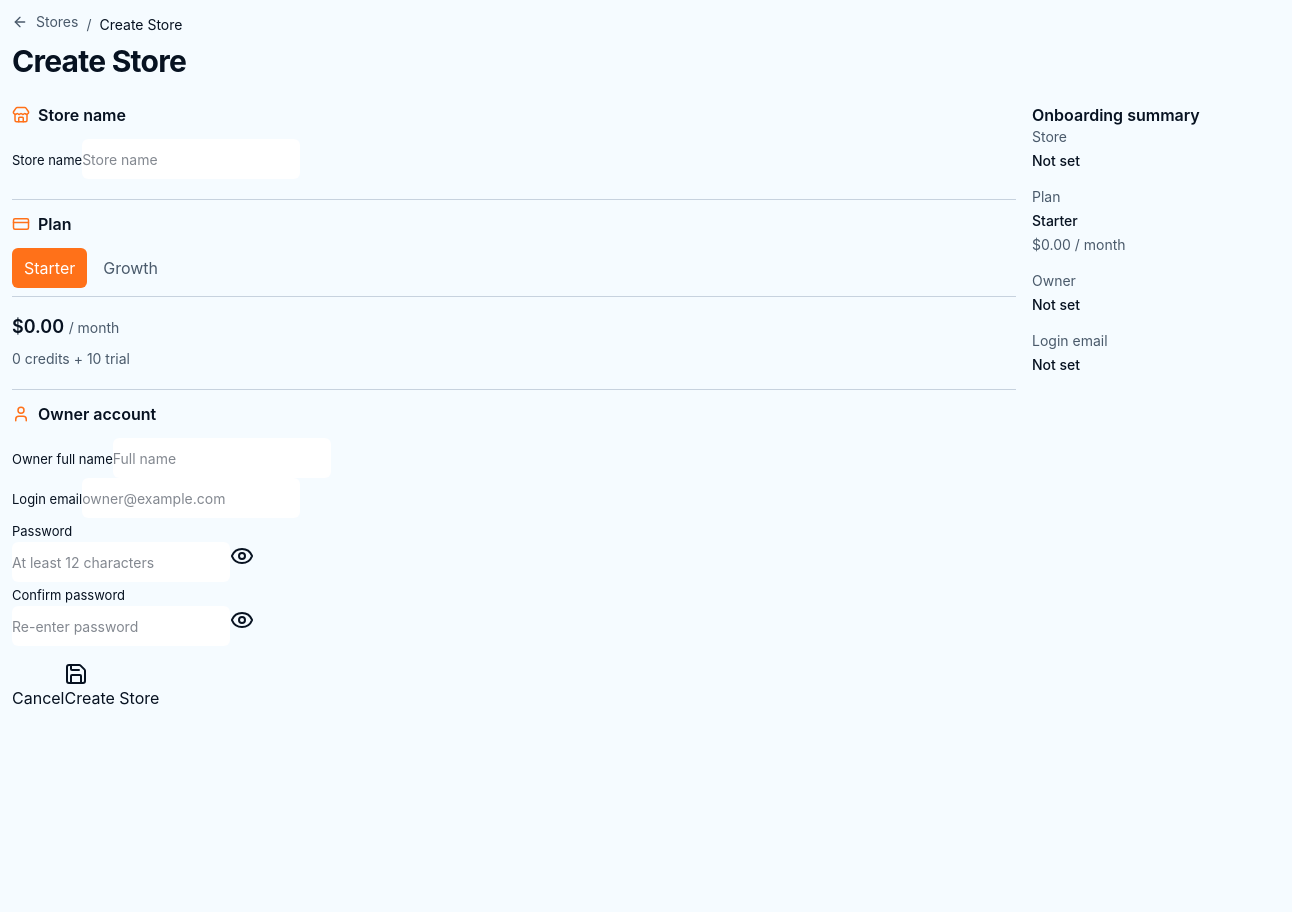
Create Store page › preserves form values and displays an existing-email error
This screenshot has width=1292, height=912.
Type "Test Store" into the field labelled "Store name" at (191, 159), box [82, 139, 300, 179]
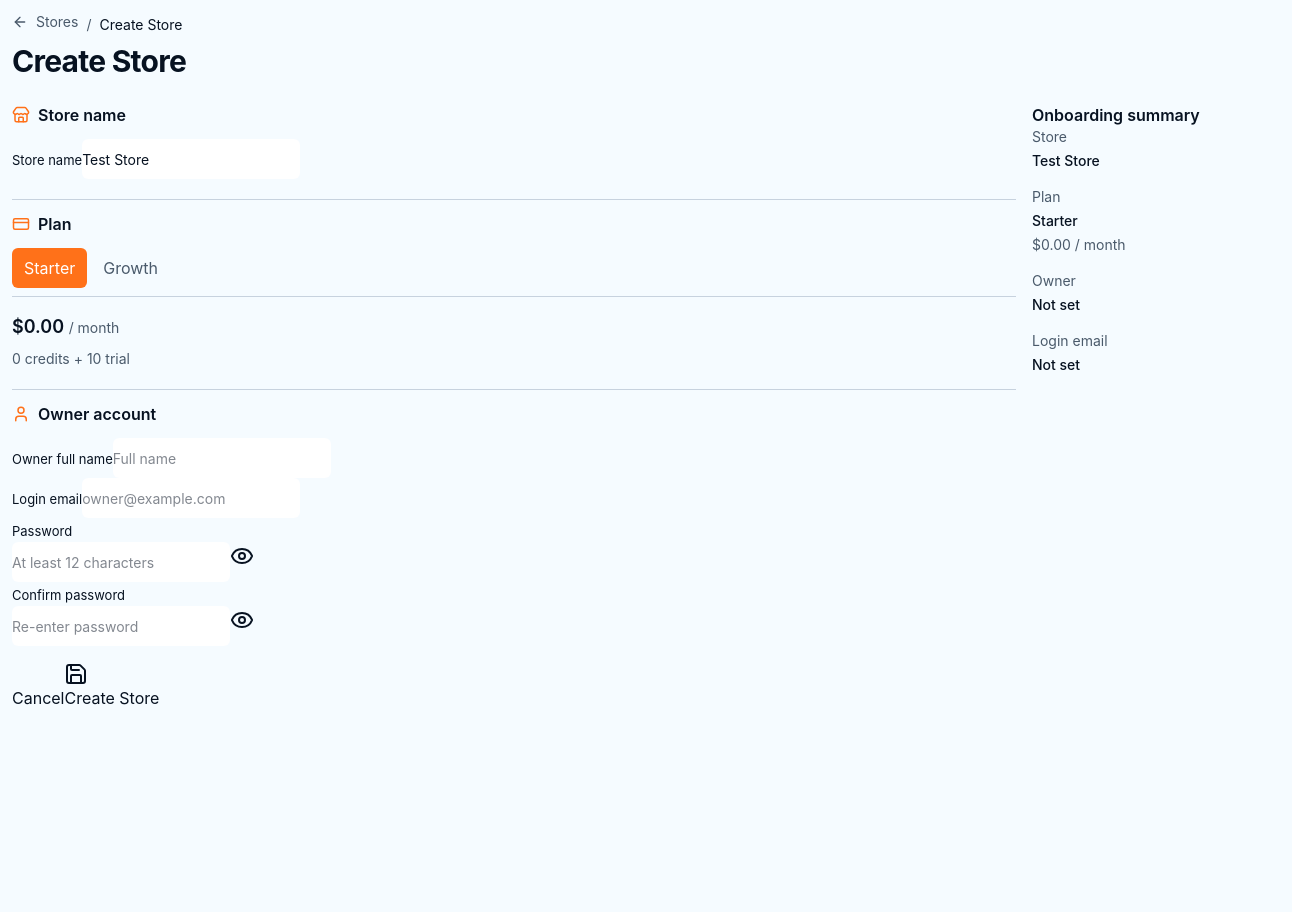
Type "Jane Owner" into the field labelled "Owner full name" at (222, 458), box [113, 438, 331, 478]
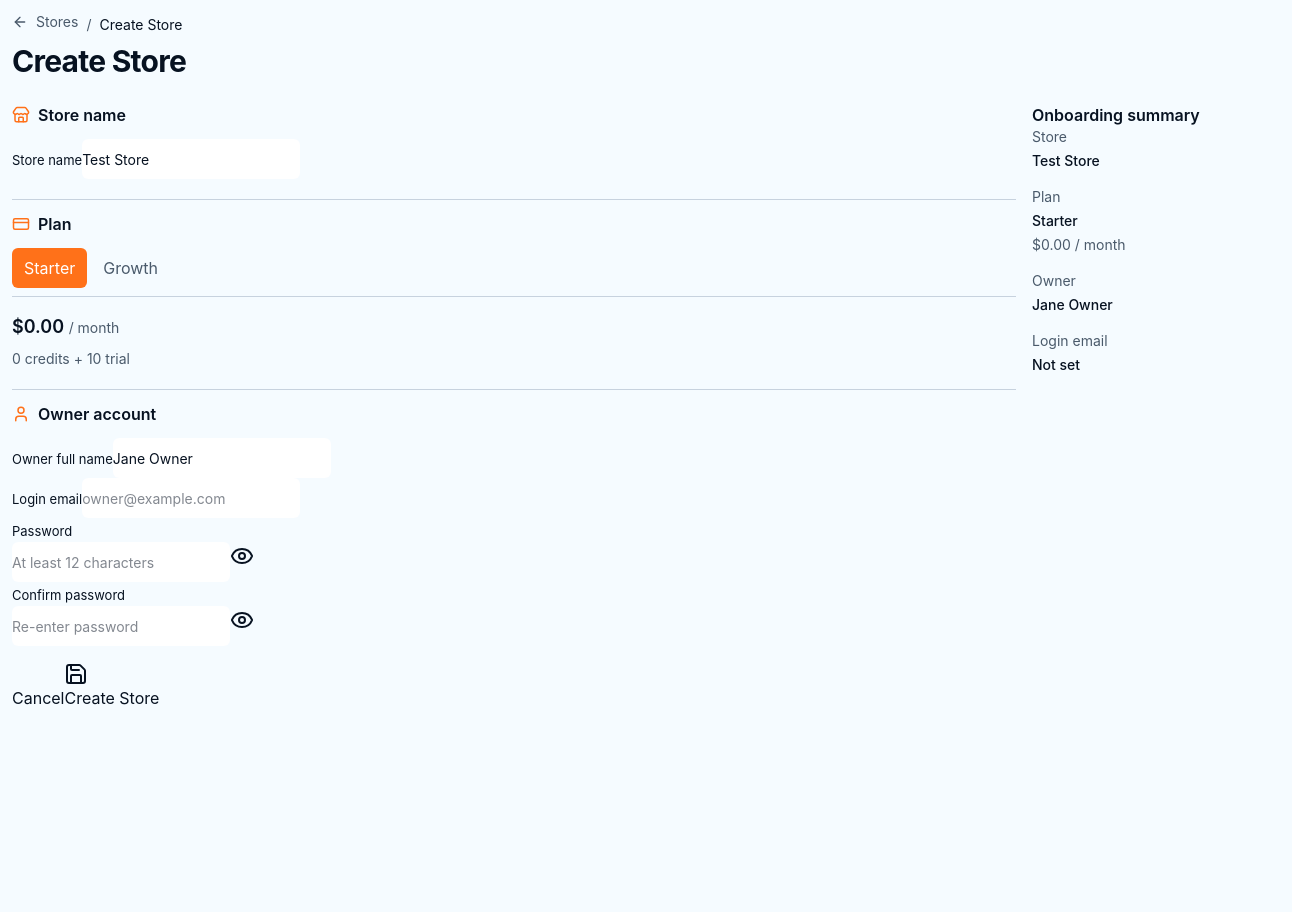
Type "jane@example.com" into the field labelled "Login email" at (191, 498), box [82, 478, 300, 518]
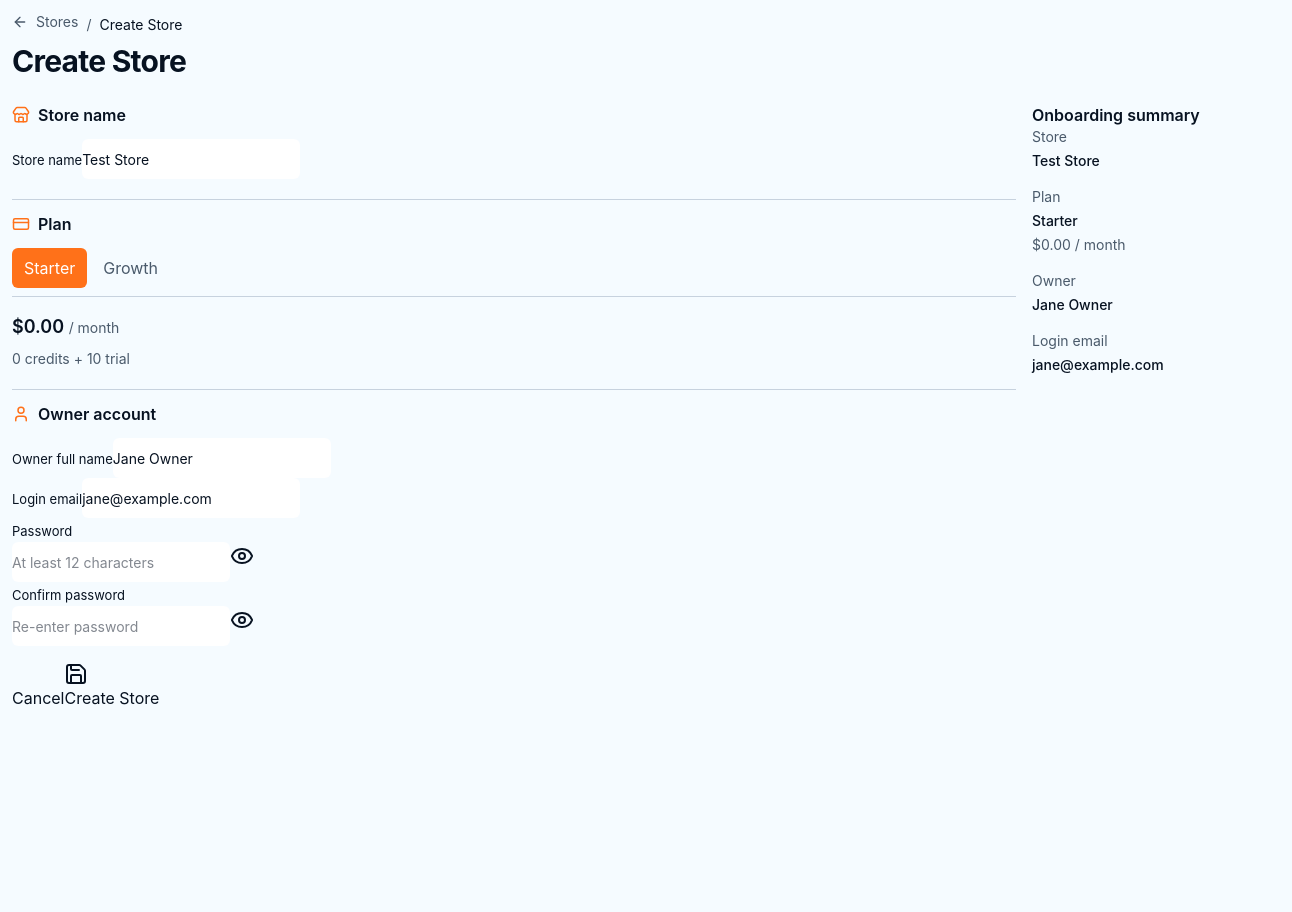
Type "OwnerPassword123!" into the password field labelled "Password" at (121, 562), box [12, 542, 230, 582]
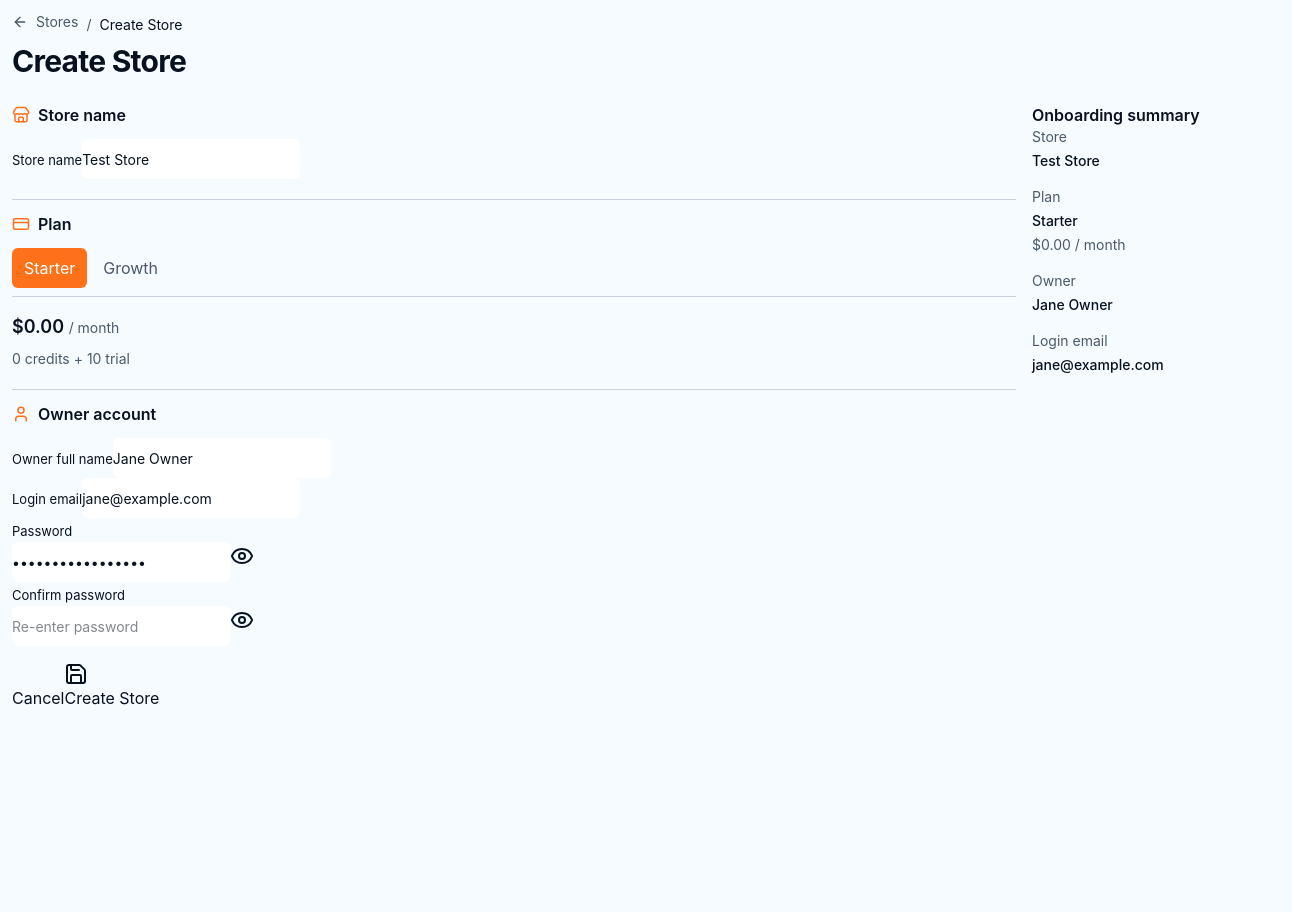
Type "OwnerPassword123!" into the password field labelled "Confirm password" at (121, 626), box [12, 606, 230, 646]
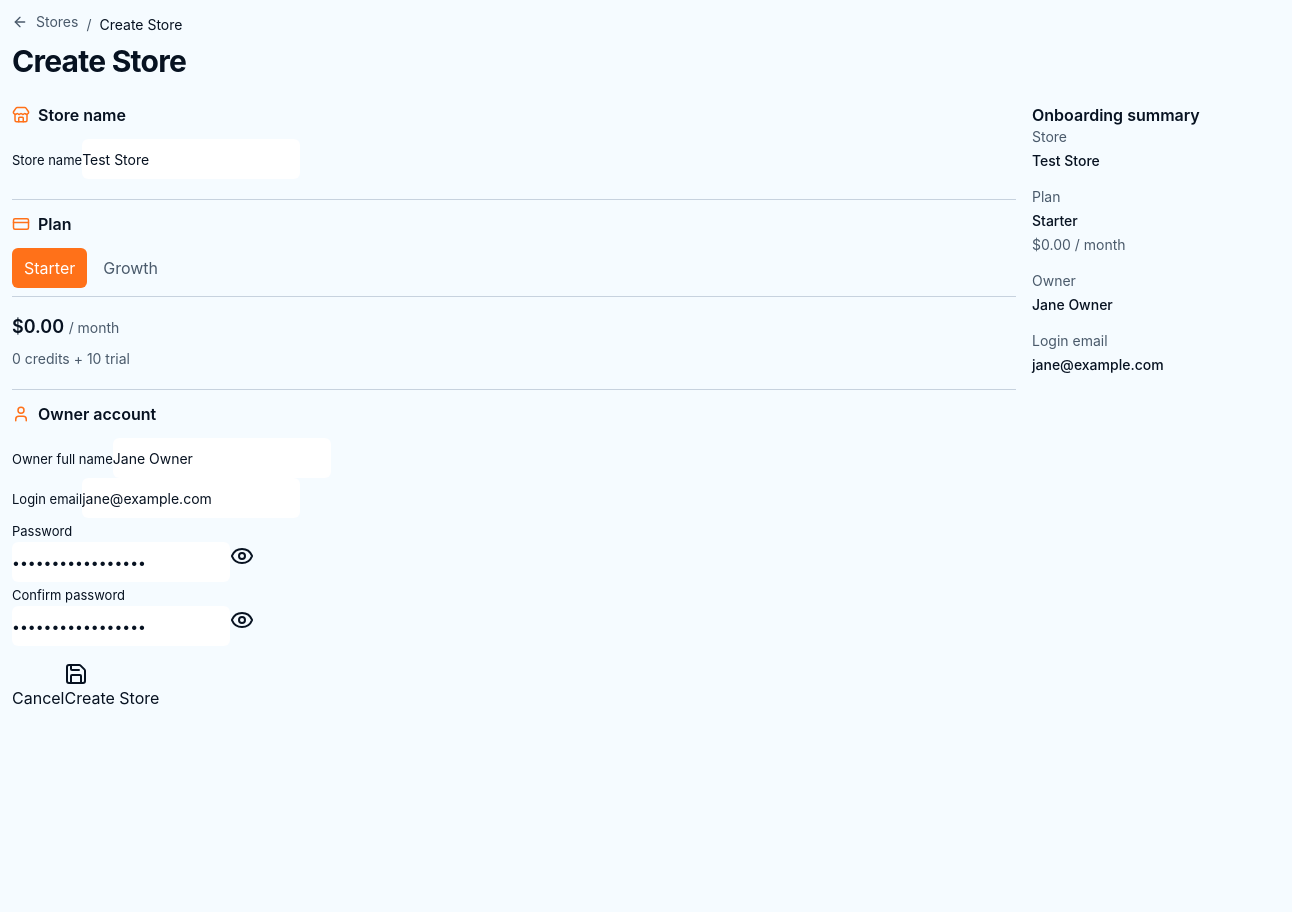
Submit the form named "Create Store"
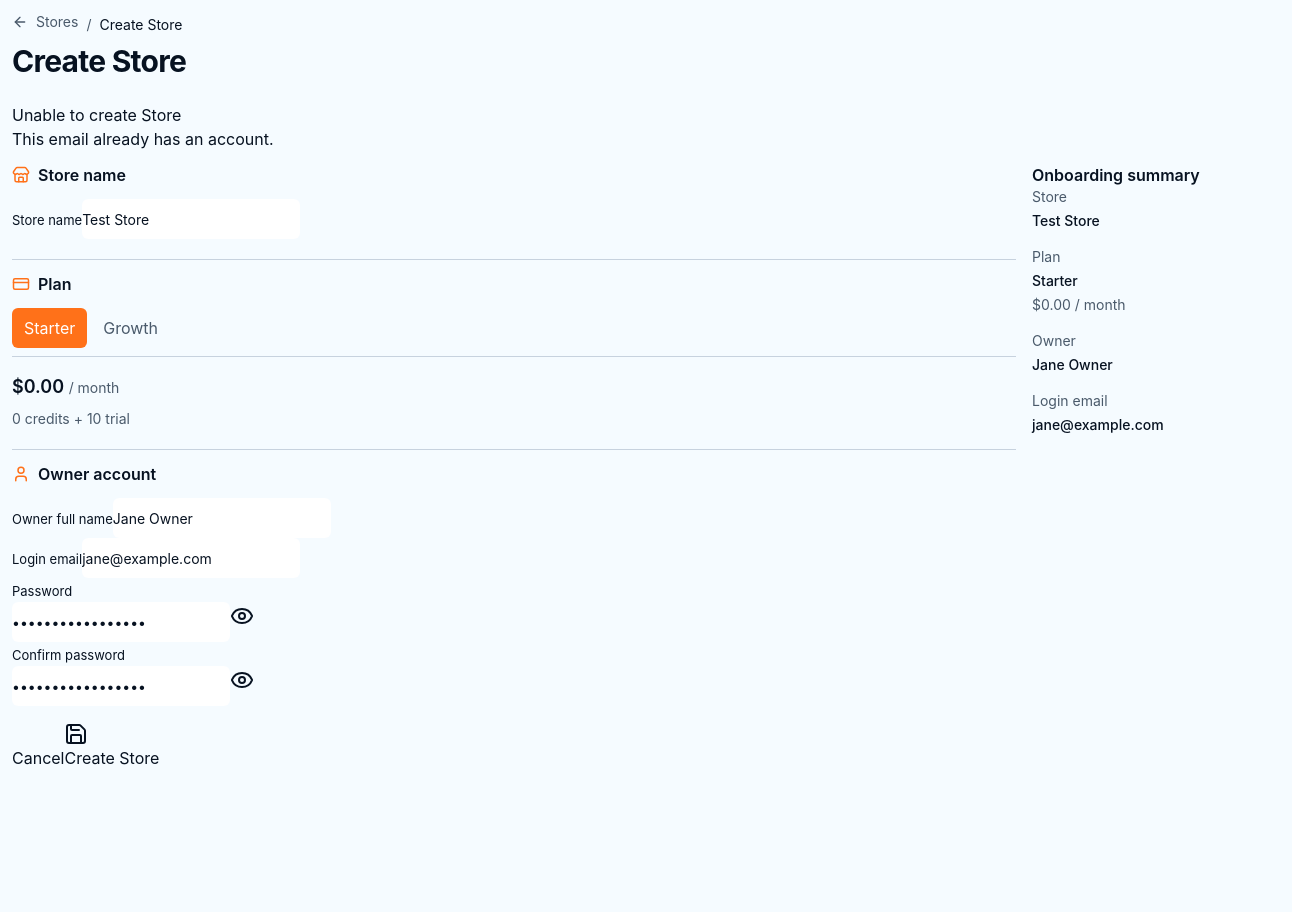
Now the text "This email already has an account." is shown, box [12, 129, 274, 149]
